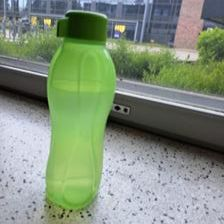bottle: (40, 8, 122, 210)
